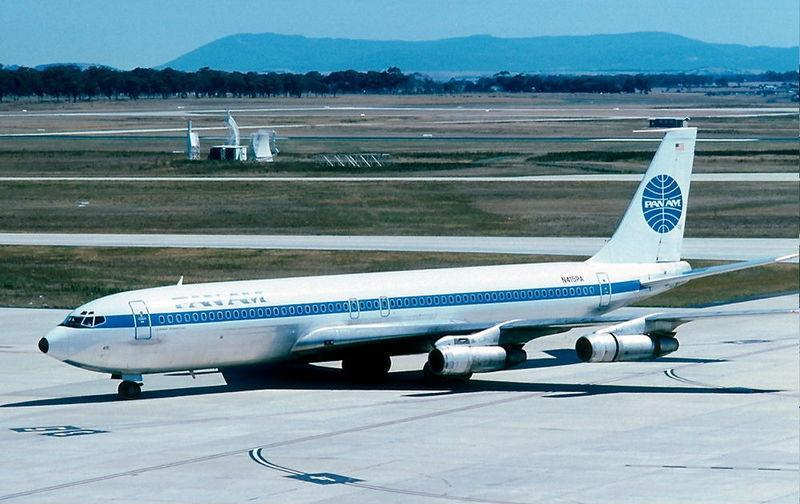airplane: (26, 128, 800, 408)
